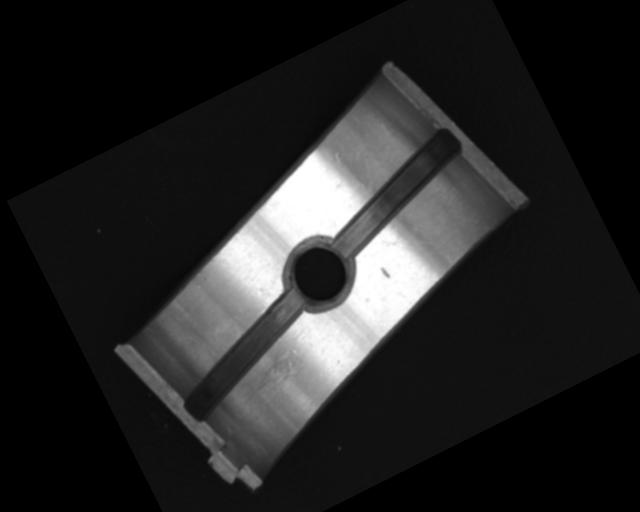bruise: (379, 264, 392, 281)
gap: (158, 286, 331, 424), (311, 127, 480, 259)
hole: (274, 228, 365, 318)
scratch: (224, 327, 320, 405)
